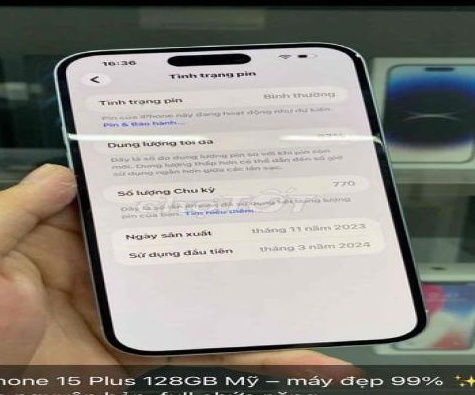scratch: (350, 49, 367, 59)
